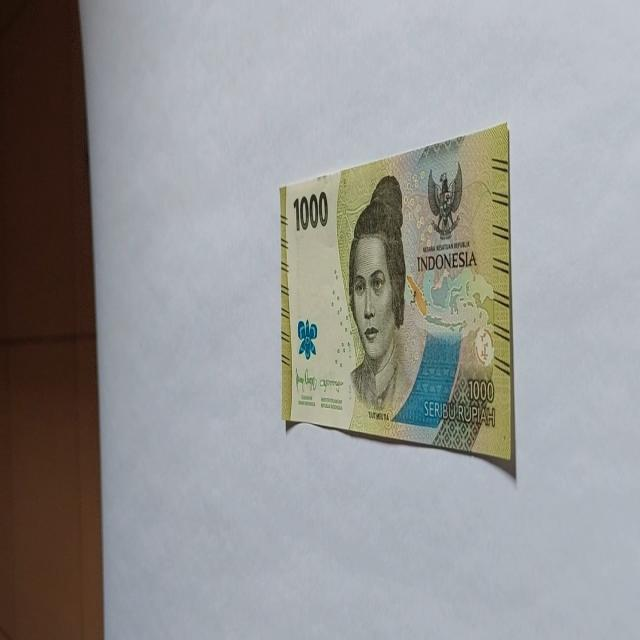seribu rupiah kertas: (279, 120, 515, 477)
